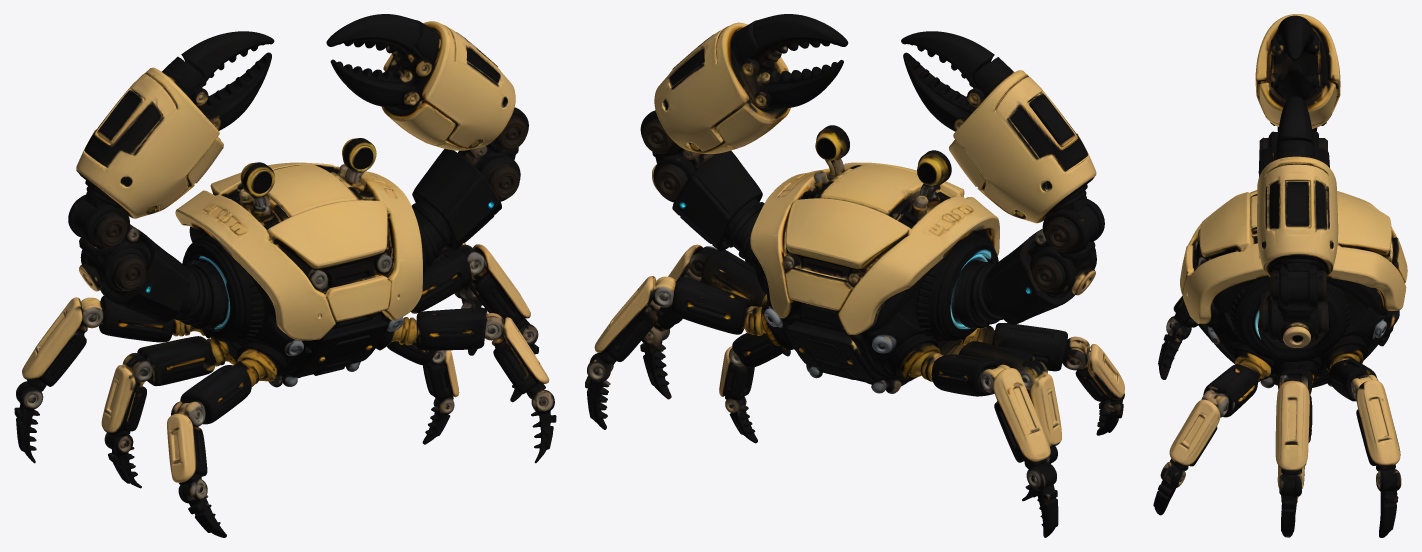
Rendered from pixellabs-futuristic-crab-machine-2554.glb.
The picture shows the model from 3 angles, left to right: view 1: azimuth 30°, elevation 25°; view 2: azimuth 150°, elevation 25°; view 3: azimuth 270°, elevation 25°; orthographic projection. The views are drawn at different scales.
Visible parts, largest first — view 1: texture_v128_768.001; view 2: texture_v128_768.001; view 3: texture_v128_768.001.
Part boxes in pixels (x1,y1,x2,y2): texture_v128_768.001: (14,14,556,537); texture_v128_768.001: (585,14,1124,537); texture_v128_768.001: (1153,14,1407,537).
Bounding box in the file's own units: 0.9053 × 0.8427 × 0.4741.
1 material, 1 textured.
